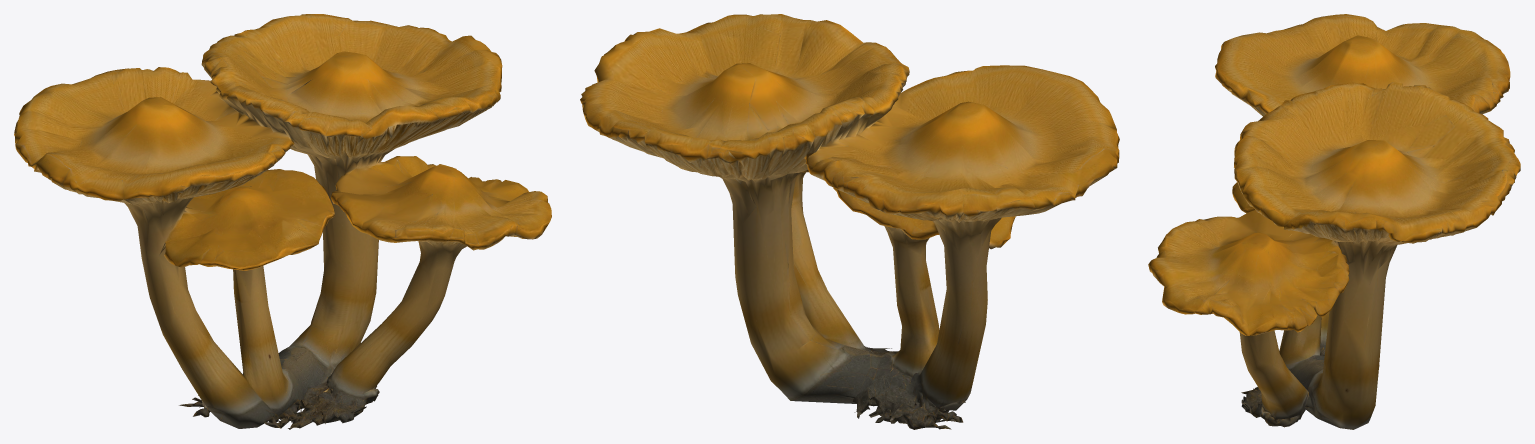
Rendered from mushroom_pfifferling.glb.
3 renders of one model, left to right at view 1: azimuth 30°, elevation 25°; view 2: azimuth 150°, elevation 25°; view 3: azimuth 270°, elevation 25°, orthographic. The views are drawn at different scales.
Visible parts, largest first — view 1: mushroom_pfifferling_0; view 2: mushroom_pfifferling_0; view 3: mushroom_pfifferling_0.
Part boxes in pixels (x1,y1,x2,y2): mushroom_pfifferling_0: [14, 14, 551, 429]; mushroom_pfifferling_0: [580, 14, 1119, 429]; mushroom_pfifferling_0: [1148, 14, 1520, 429].
Size of the model in its own units: 0.5513 by 0.36 by 0.3978.
Materials: 1 (1 with a texture image).
